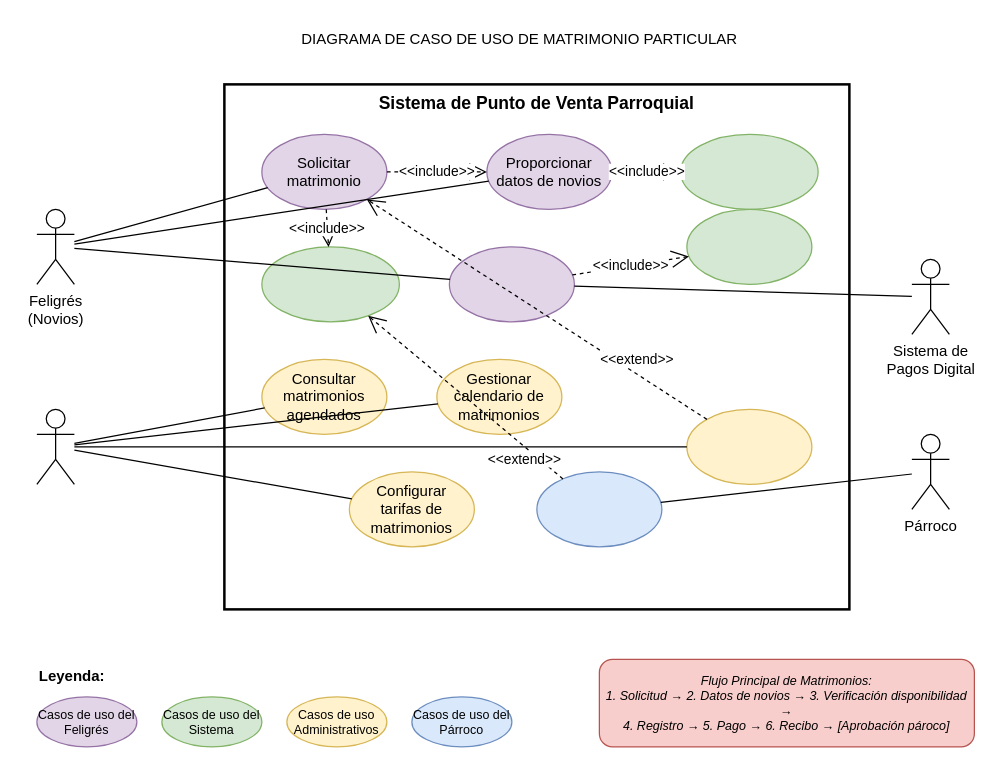
This 996x769 diagram has some shape labels left out. Here are the shapes that lost their labels. From the top down, the centre of each, then its label:
the point at 748,171: Verificar disponibilidad de fecha y hora
the point at 749,246: Emitir recibo digital
the point at 330,284: Registrar matrimonio en base de datos
the point at 511,284: Realizar pago del matrimonio
the point at 55,446: Secretaría Parroquial
the point at 749,446: Validar documentación matrimonial
the point at 599,509: Aprobar matrimonio
